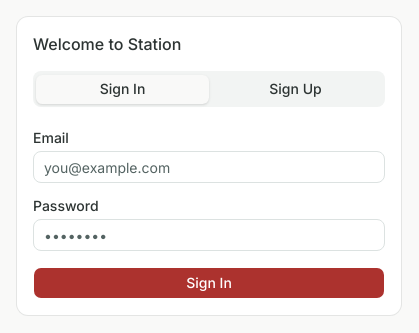
Test: AuthPage › Sign In form › disables submit button while loading
In the field labelled "Email": (209, 167) [33,151,385,183], type "test@example.com"
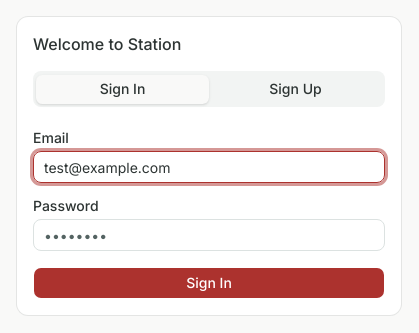
In the password field labelled "Password": (209, 235) [33,219,385,251], type "password123"
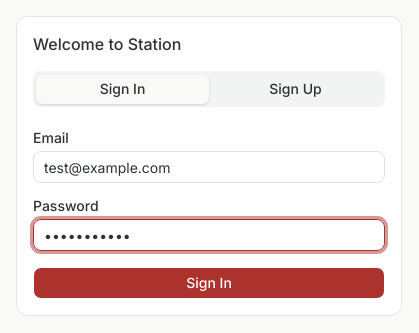
Click the button "Sign In": (209, 283) [33,267,385,299]
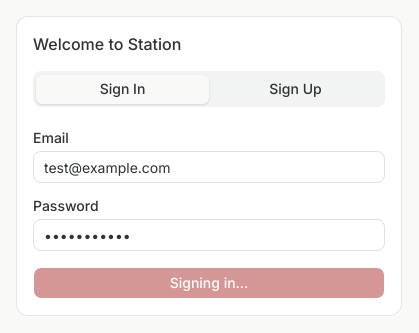
Expected: the button "Signing in..." is disabled, [33,267,385,299]
